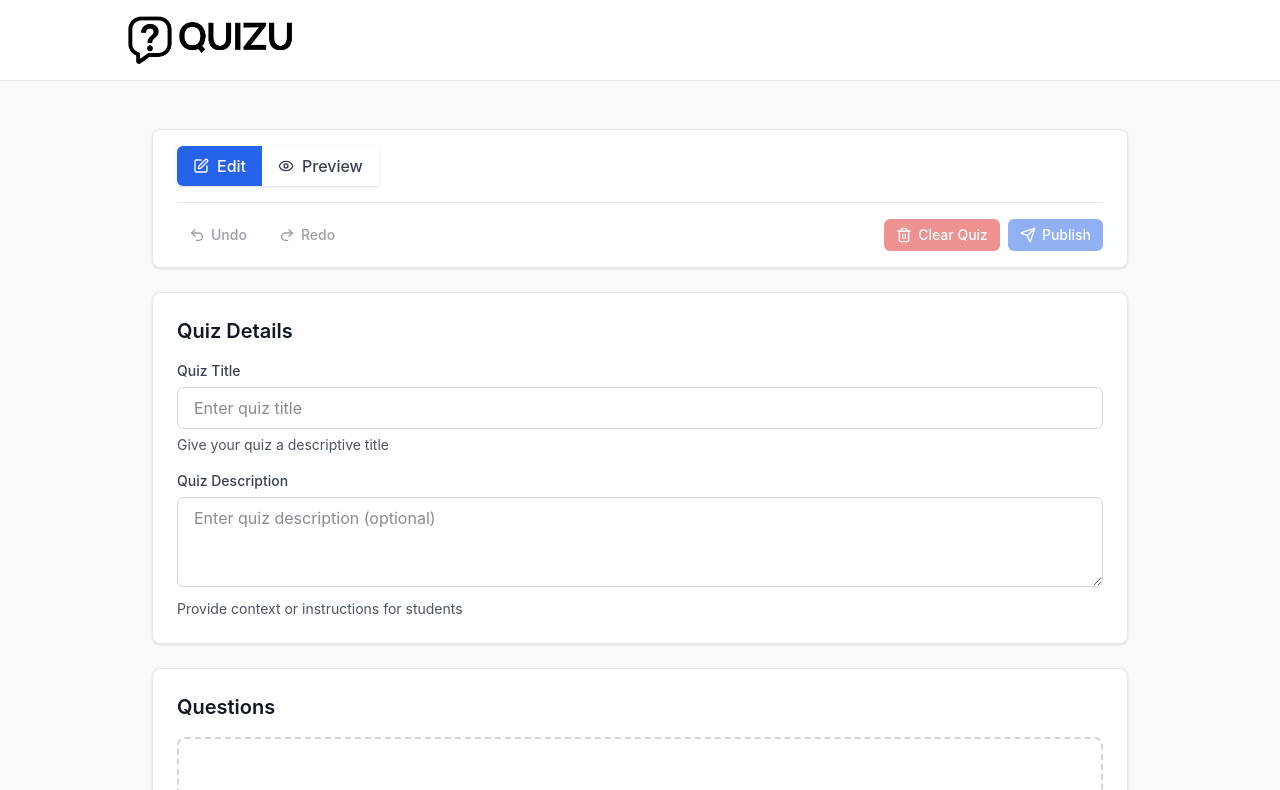
Test: toggles edit/preview modes
Expected: the field labelled "Quiz Title" is shown, x1=177 y1=387 x2=1103 y2=429
Note: Switch to preview mode
Click the button "Preview". click: (320, 166)
box: x1=262 y1=146 x2=379 y2=186
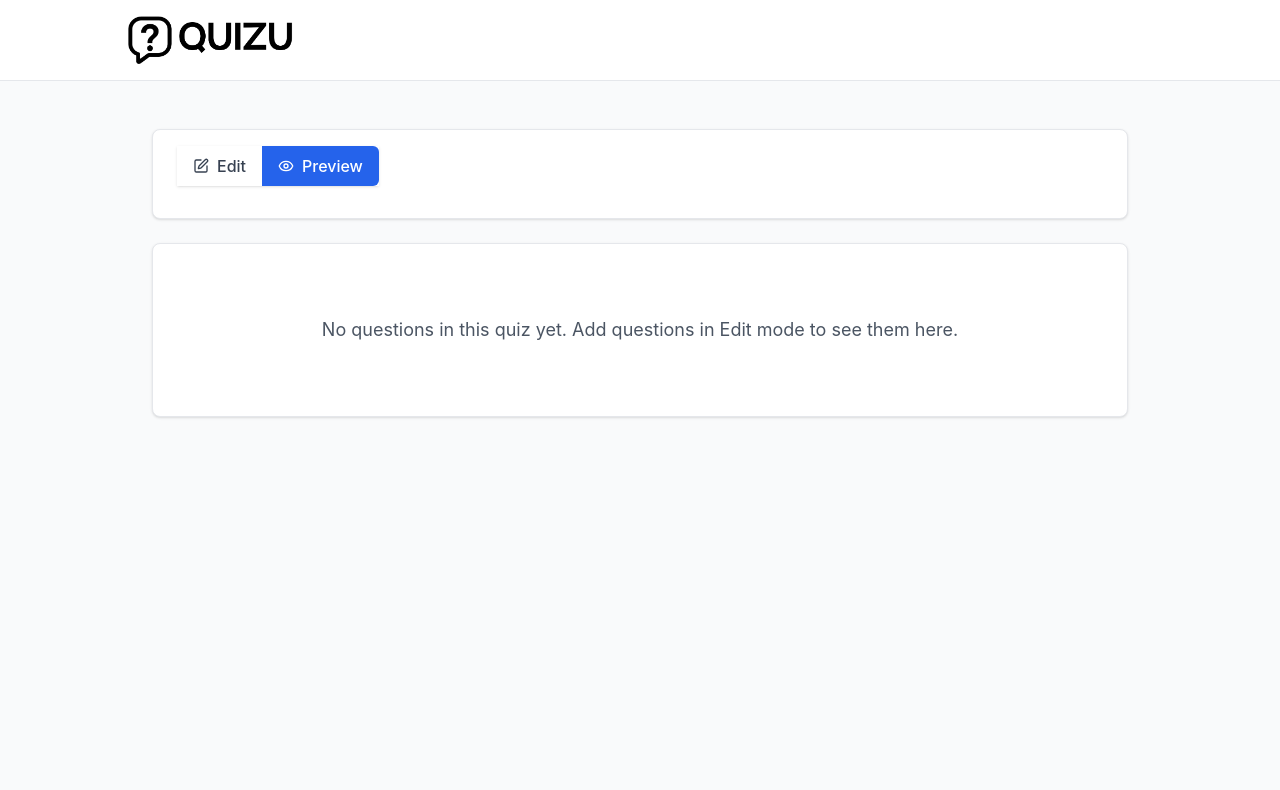
Expected: the text "Add questions in Edit mode" is shown, x1=322 y1=319 x2=958 y2=340
